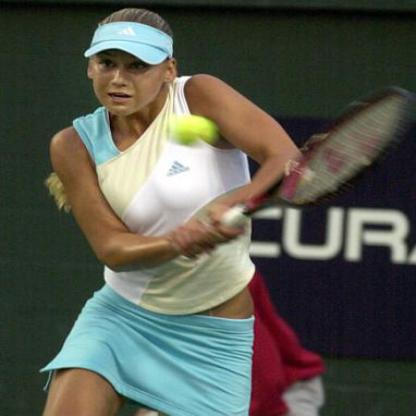face: (92, 12, 166, 118)
